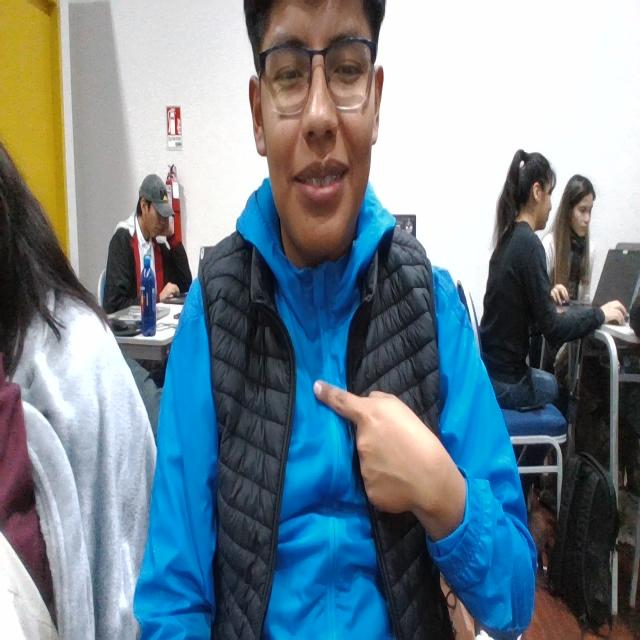i: (307, 364, 466, 547)
